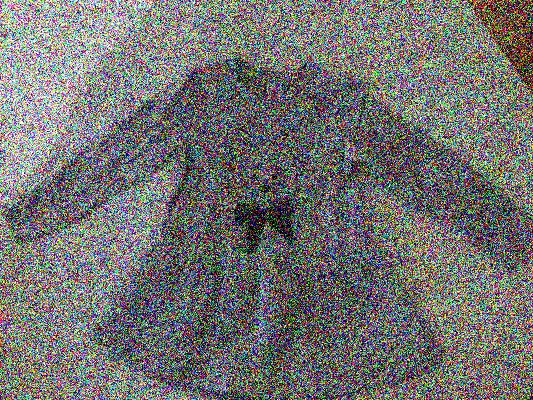Dress: (18, 69, 521, 391)
